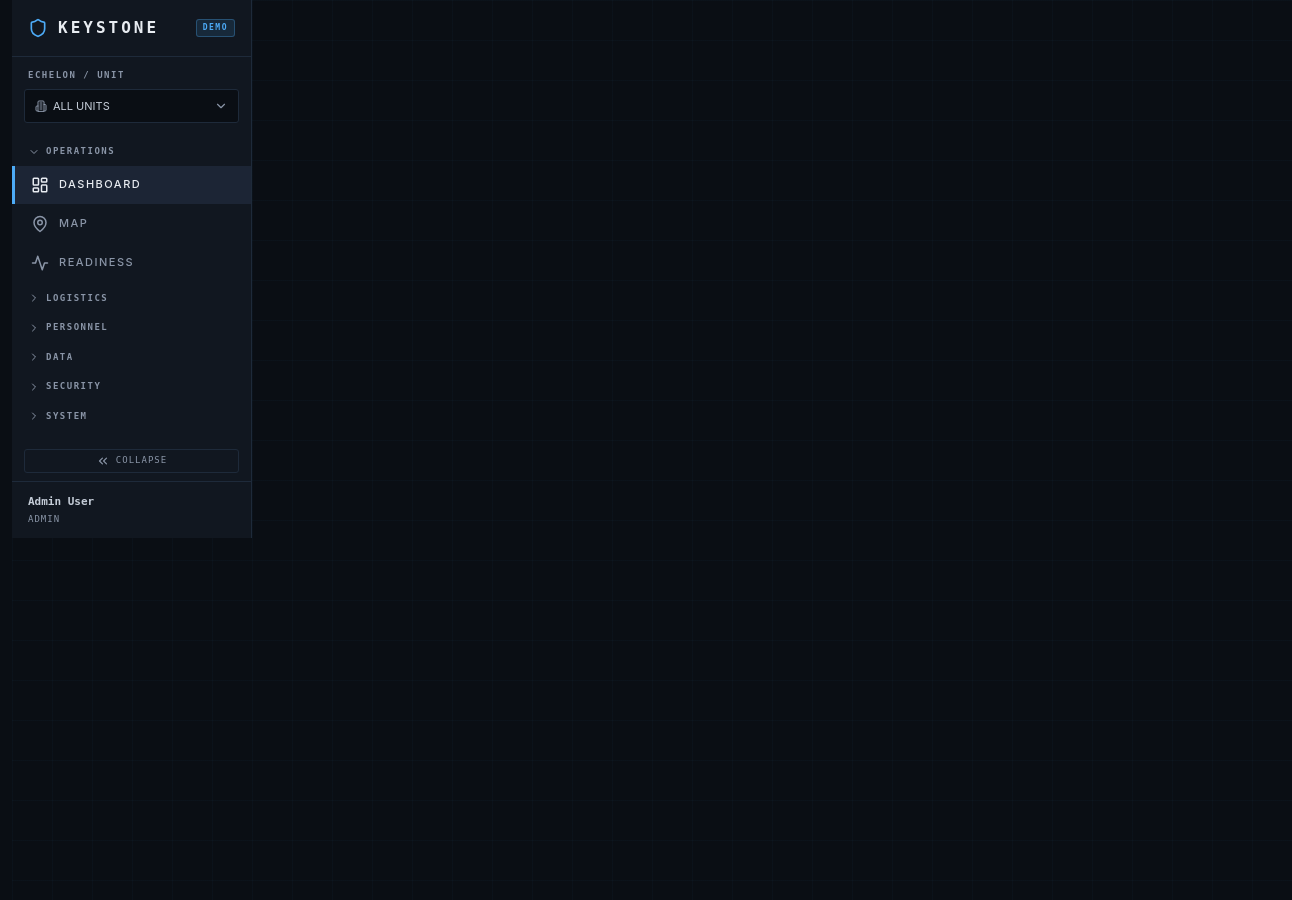
Test case: Sidebar › clicking an expanded group header collapses it
The image size is (1292, 900).
Expected: the text "DASHBOARD" is shown, [59,177,141,191]
# Click OPERATIONS header to collapse it
Click the button "OPERATIONS" at {"x": 132, "y": 152}, box [12,139,251,164]
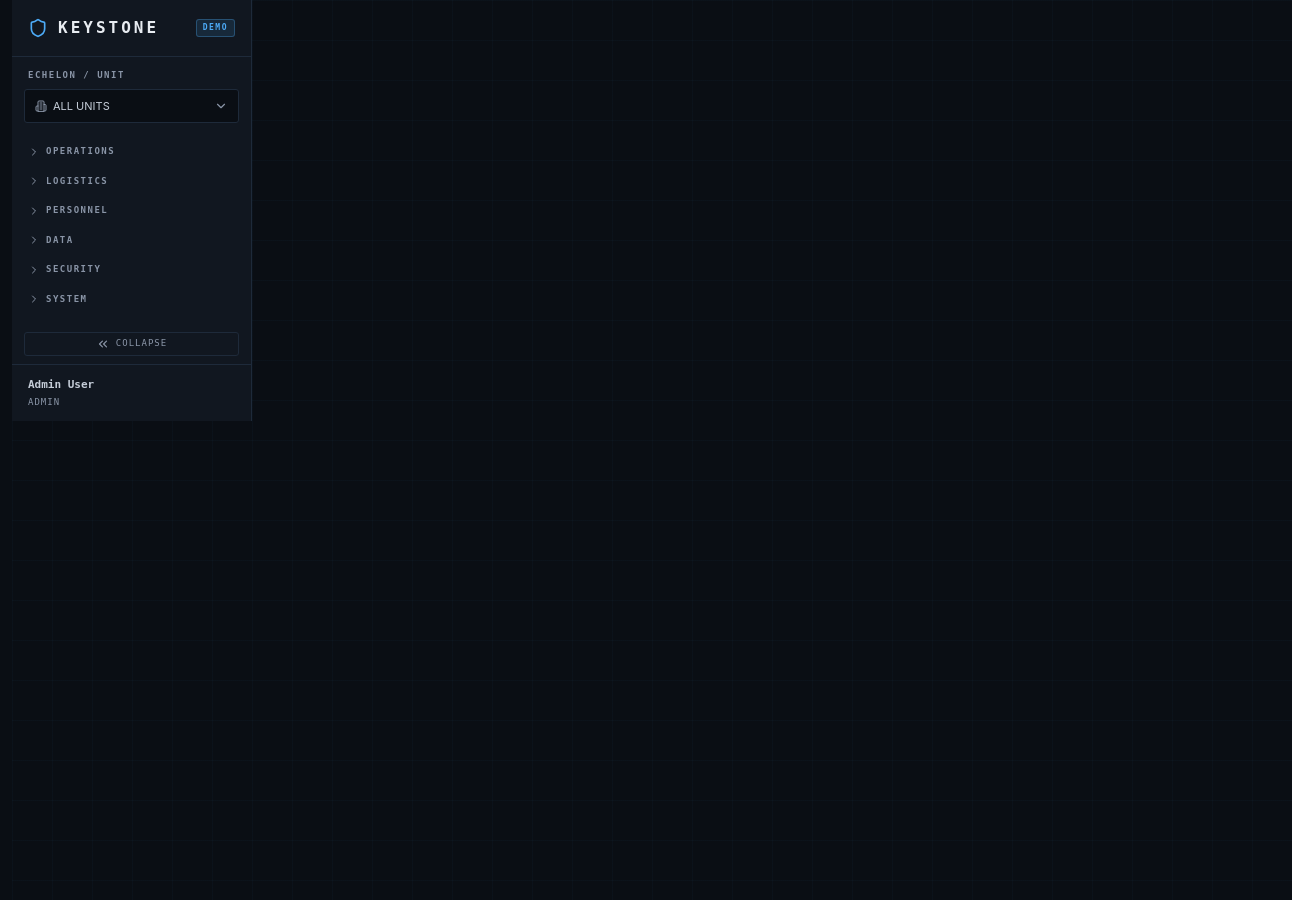
Expected: the link "DASHBOARD" is gone
